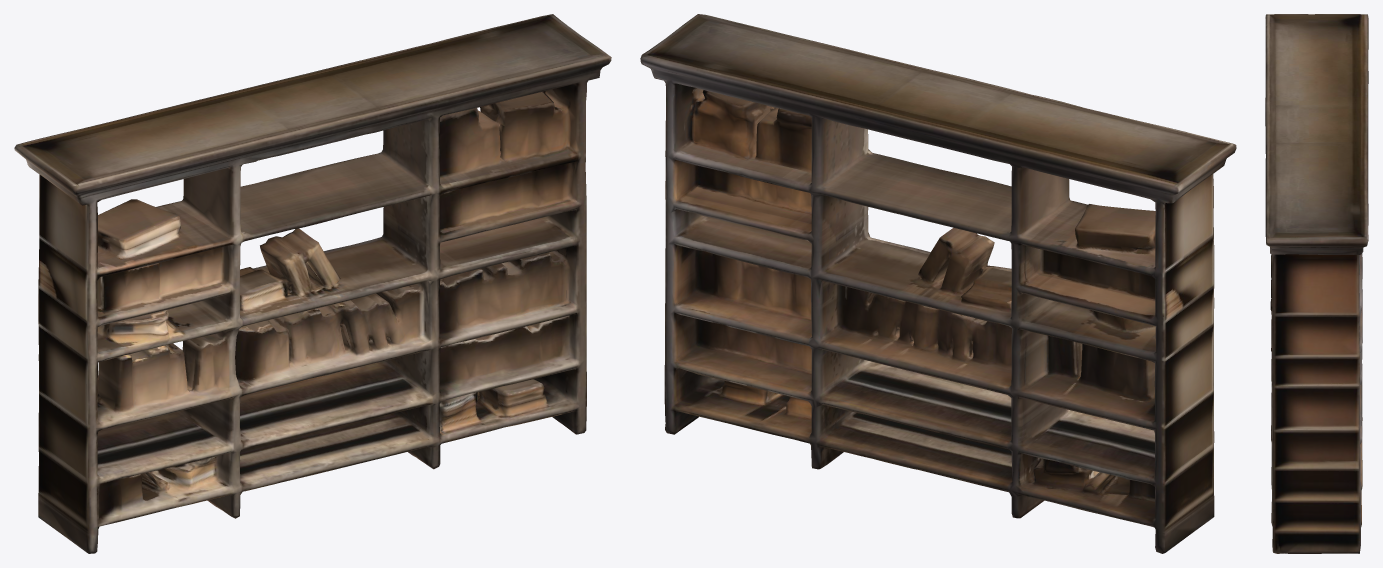
File: dusty bookshelf.gltf
3 renders of one model, left to right at view 1: azimuth 30°, elevation 25°; view 2: azimuth 150°, elevation 25°; view 3: azimuth 270°, elevation 25°, orthographic. The views are drawn at different scales.
Parts seen in each view (by area): view 1: Mesh1.0; view 2: Mesh1.0; view 3: Mesh1.0.
Part boxes in pixels (bbox=[...]): Mesh1.0: bbox=[14, 14, 611, 553]; Mesh1.0: bbox=[640, 14, 1236, 553]; Mesh1.0: bbox=[1265, 14, 1368, 553].
Bounding box in the file's own units: 2.01 × 1.34 × 0.3864.
1 material, 1 textured.
